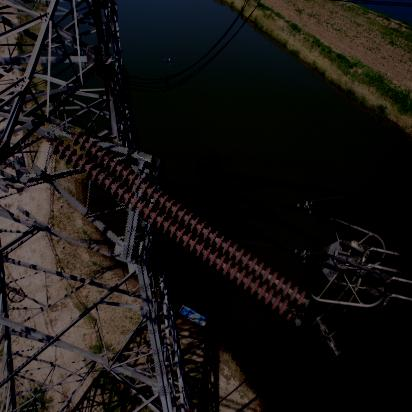insulator: (19, 144, 335, 302)
